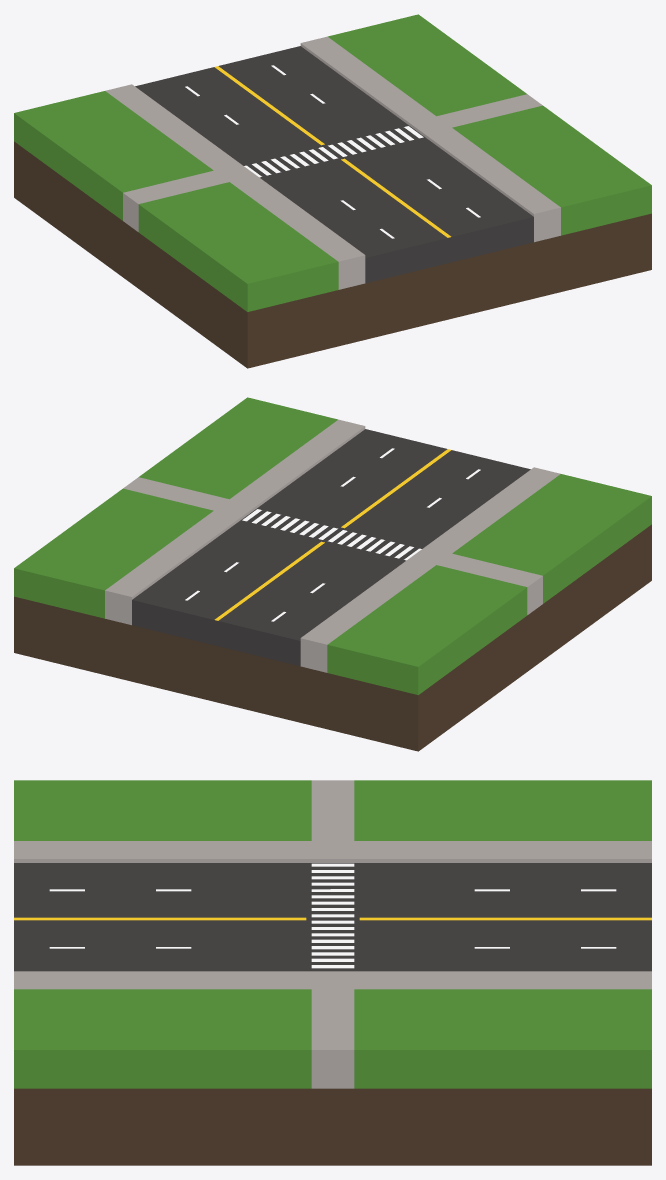
File: tile-mainroad-straight-crosswalk.glb
3 renders of one model, top to bottom at view 1: azimuth 30°, elevation 25°; view 2: azimuth 150°, elevation 25°; view 3: azimuth 270°, elevation 25°, orthographic. The views are drawn at different scales.
Visible parts, largest first — view 1: tile-mainroad-straight-crosswalk; view 2: tile-mainroad-straight-crosswalk; view 3: tile-mainroad-straight-crosswalk.
Boxes of the visible parts, x1,y1,x2,y2 form: tile-mainroad-straight-crosswalk: (14, 14, 651, 368); tile-mainroad-straight-crosswalk: (14, 397, 651, 751); tile-mainroad-straight-crosswalk: (14, 780, 651, 1165).
Bounding box in the file's own units: 30 × 6 × 30.
Materials: 1 (1 with a texture image).
